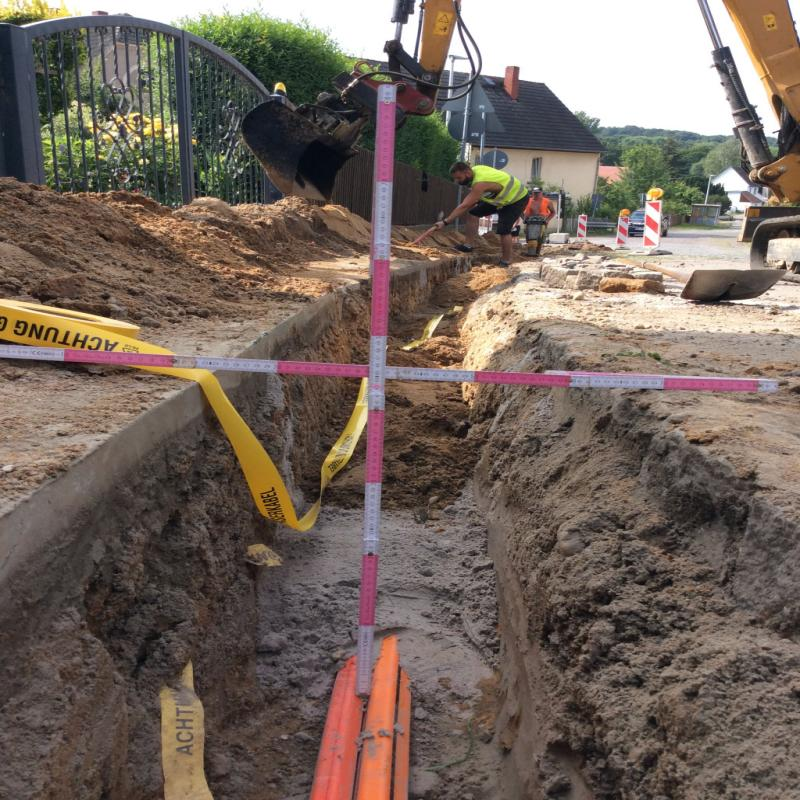Orang-Speednetrohrchen: (310, 634, 412, 800)
